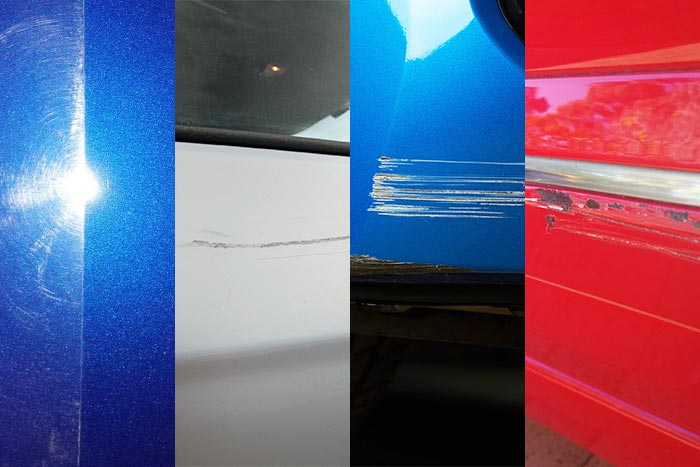scratch: (367, 143, 518, 228), (525, 185, 699, 256), (176, 225, 344, 262), (354, 251, 470, 284)
